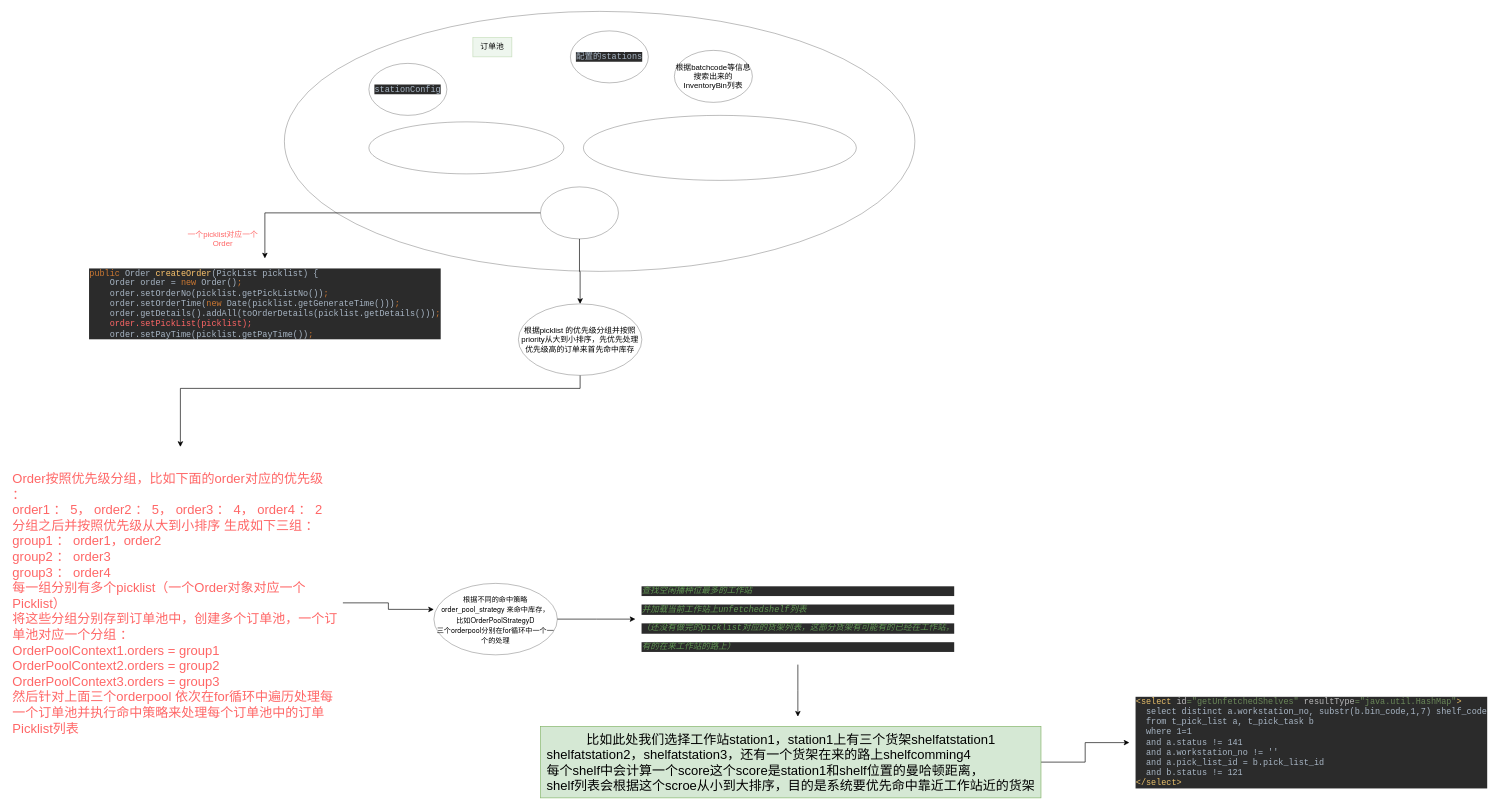
Image size: 1504x809. Some labels were removed from this diagram. The shapes that lost their labels are listed below. From the top down, each one's centre as x and y in pixels, then its label:
(x=466, y=147): 所有的货架（包含locationX，locationY） Map<String , Shelf> shelves
(x=719, y=147): key ：shelf， value ： 被库存占用的bin数量 Map<String , Integer> shelfSidesNum
(x=579, y=212): List<Order> orders : picklist的列表
